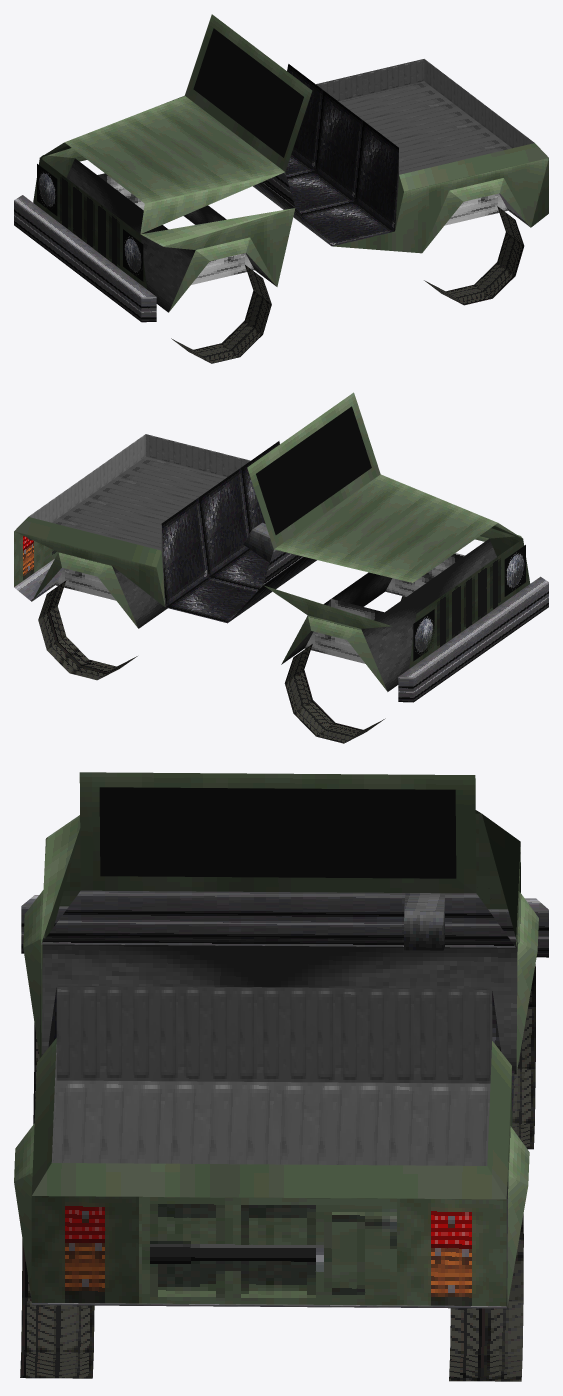
The model's file is primary_009.glb.
3 views of the same model, one above another, from view 1: azimuth 30°, elevation 25°; view 2: azimuth 150°, elevation 25°; view 3: azimuth 270°, elevation 25° (orthographic). The views are drawn at different scales.
Visible parts, largest first — view 1: Object; view 2: Object; view 3: Object.
Boxes of the visible parts, x1=… form: Object: x1=14, y1=14, x2=548, y2=363; Object: x1=14, y1=392, x2=548, y2=743; Object: x1=14, y1=772, x2=548, y2=1381.
Size of the model in its own units: 3.95 by 2.18 by 2.33.
20 materials, 20 textured.
